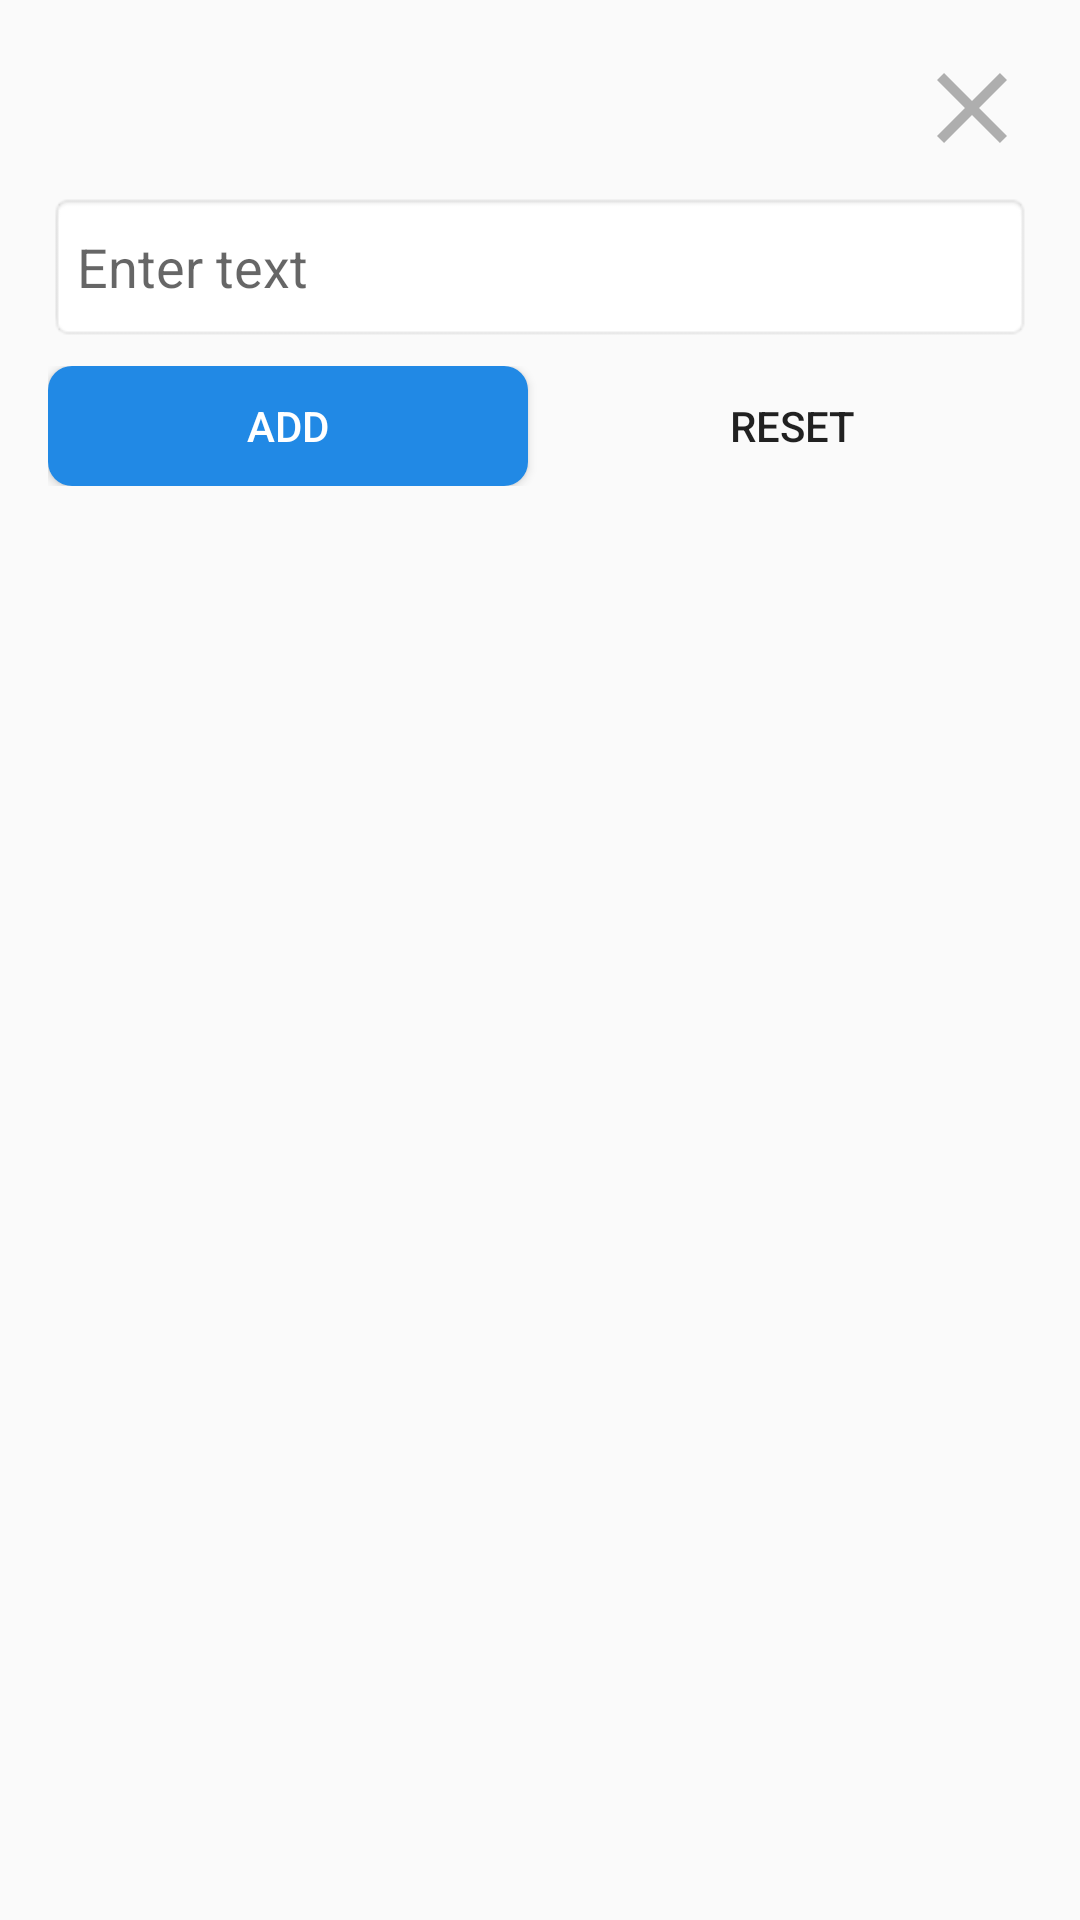

Locate icon controls on the screen. Image size 1080×1920, boxes as (x1, y1, x2, y2).
close: (937, 73, 1007, 143)
